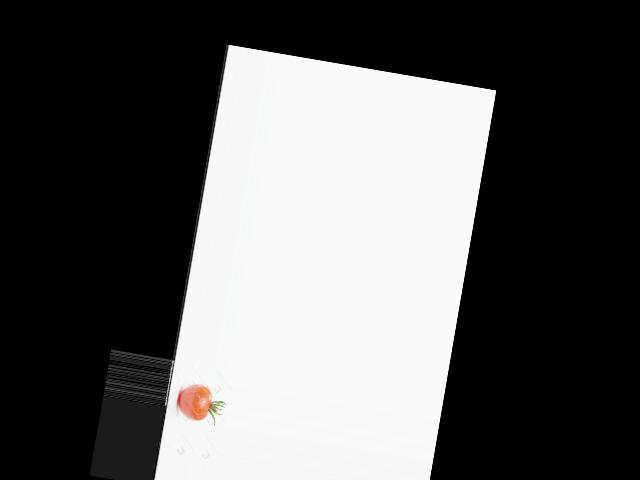tomato: (175, 381, 213, 423)
